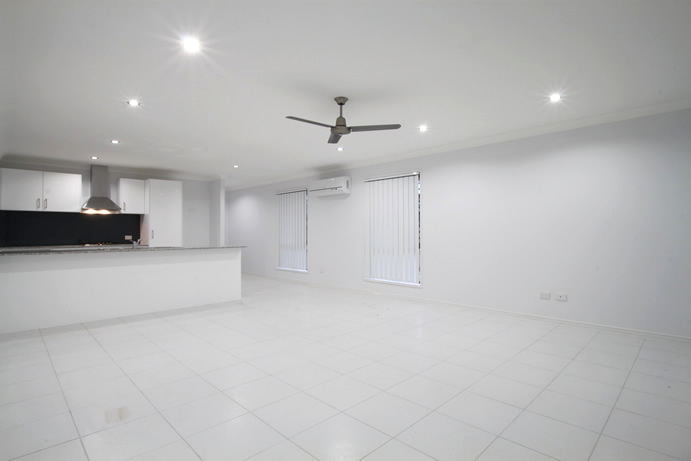ceiling fan: (276, 90, 406, 151)
